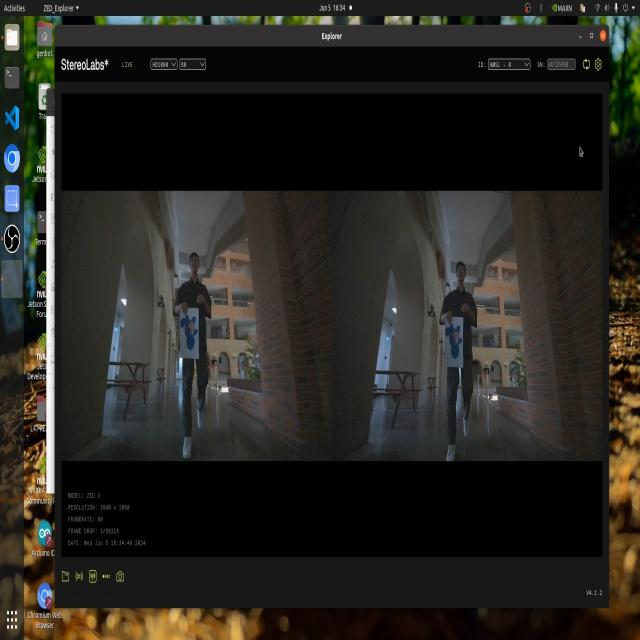blue: (447, 317, 469, 370), (179, 309, 196, 353)
